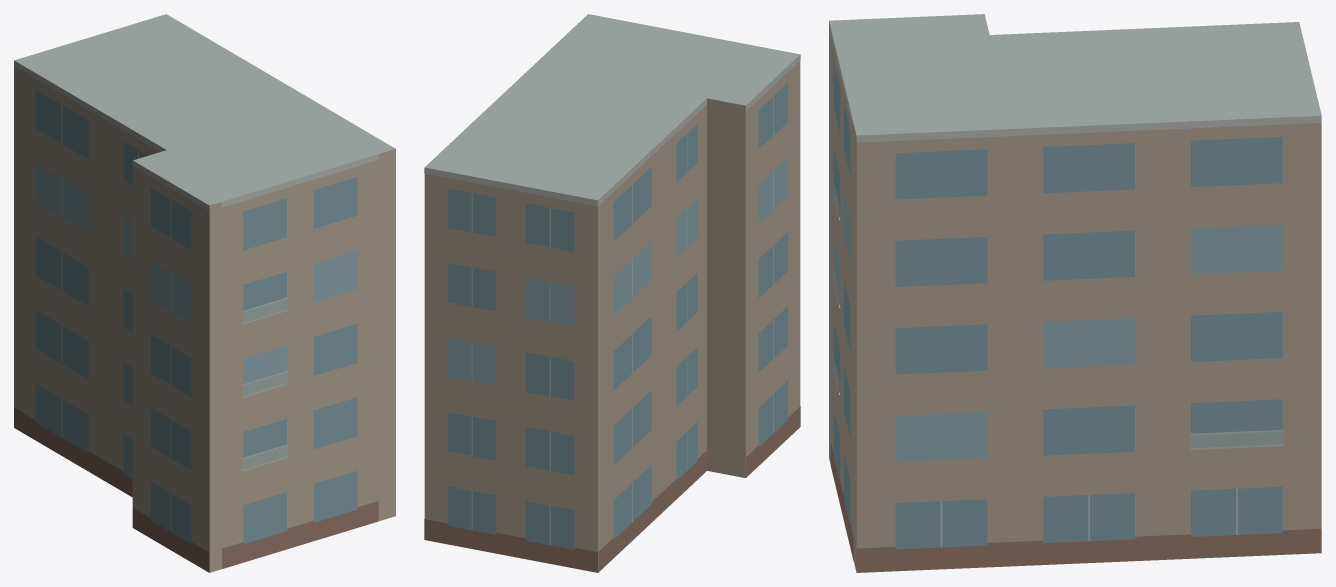
File: survey-upis-33012704.glb
3 renders of one model, left to right at view 1: azimuth 30°, elevation 25°; view 2: azimuth 150°, elevation 25°; view 3: azimuth 270°, elevation 25°, orthographic. The views are drawn at different scales.
Visible parts, largest first — view 1: survey-upis-33012704.tmp; view 2: survey-upis-33012704.tmp; view 3: survey-upis-33012704.tmp.
Boxes of the visible parts, box(x1,y1,x2,y2) form: survey-upis-33012704.tmp: box(14, 14, 395, 572); survey-upis-33012704.tmp: box(424, 14, 800, 572); survey-upis-33012704.tmp: box(829, 14, 1321, 572).
Size of the model in its own units: 9.01 by 15.1 by 15.43.
